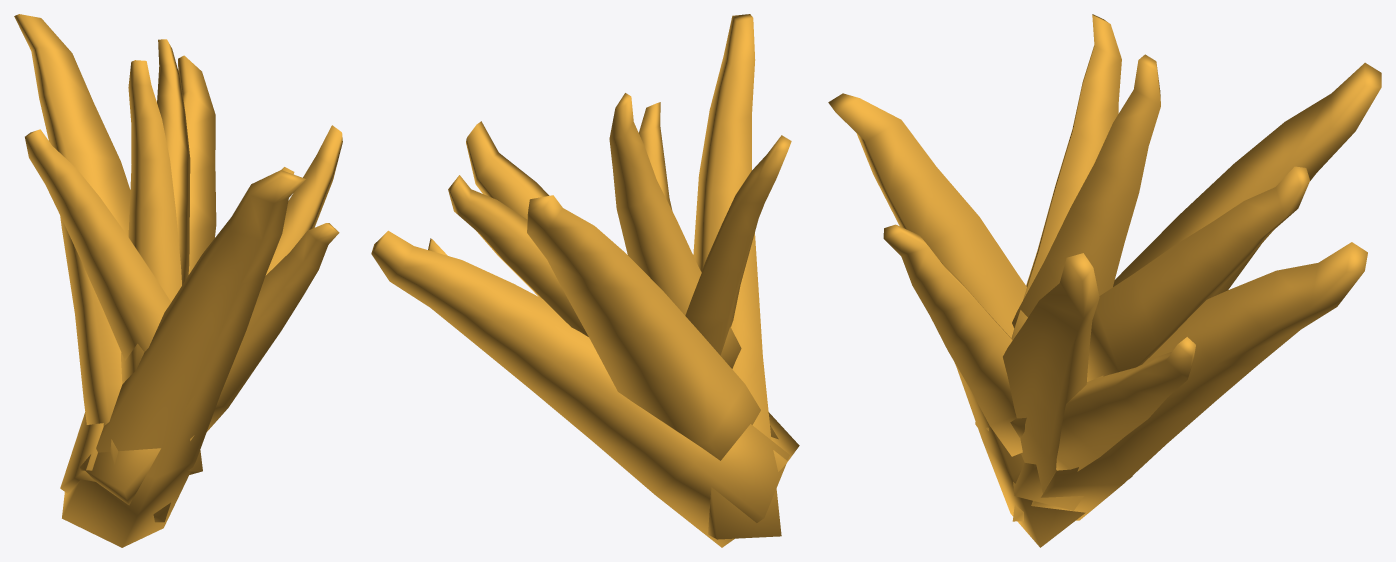
The model's file is coral-5AfRNBTWHLo.glb.
3 views of the same model, side by side, from view 1: azimuth 30°, elevation 25°; view 2: azimuth 150°, elevation 25°; view 3: azimuth 270°, elevation 25° (orthographic). The views are drawn at different scales.
Parts seen in each view (by area): view 1: mesh374914656, mesh383623969, mesh1631175725, mesh2048881547, mesh1951639073, mesh481681381, mesh2069133167, mesh289903874; view 2: mesh1951639073, mesh383623969, mesh374914656, mesh2048881547, mesh1631175725, mesh289903874, mesh2069133167, mesh481681381; view 3: mesh1951639073, mesh374914656, mesh289903874, mesh383623969, mesh2069133167, mesh2048881547, mesh481681381, mesh1482234997, mesh1631175725.
Part boxes in pixels (x1,y1,x2,y2): mesh374914656: (62, 170, 305, 547); mesh383623969: (14, 14, 202, 474); mesh1631175725: (25, 129, 171, 360); mesh2048881547: (121, 60, 181, 383); mesh1951639073: (60, 55, 216, 522); mesh481681381: (207, 223, 339, 431); mesh2069133167: (80, 125, 342, 505); mesh289903874: (157, 39, 190, 285); mesh1951639073: (371, 230, 789, 547); mesh383623969: (527, 195, 778, 460); mesh374914656: (693, 14, 781, 539); mesh2048881547: (609, 93, 741, 368); mesh1631175725: (685, 135, 791, 355); mesh289903874: (448, 175, 588, 336); mesh2069133167: (466, 121, 799, 471); mesh481681381: (639, 102, 672, 210); mesh1951639073: (1012, 242, 1367, 521); mesh374914656: (828, 93, 1132, 547); mesh289903874: (1087, 166, 1309, 381); mesh383623969: (1013, 62, 1381, 510); mesh2069133167: (975, 253, 1099, 493); mesh2048881547: (1012, 54, 1160, 328); mesh481681381: (883, 224, 1022, 456); mesh1482234997: (986, 337, 1195, 471); mesh1631175725: (1011, 14, 1121, 339).
Bounding box in the file's own units: 0.4295 × 0.5727 × 0.5713.
